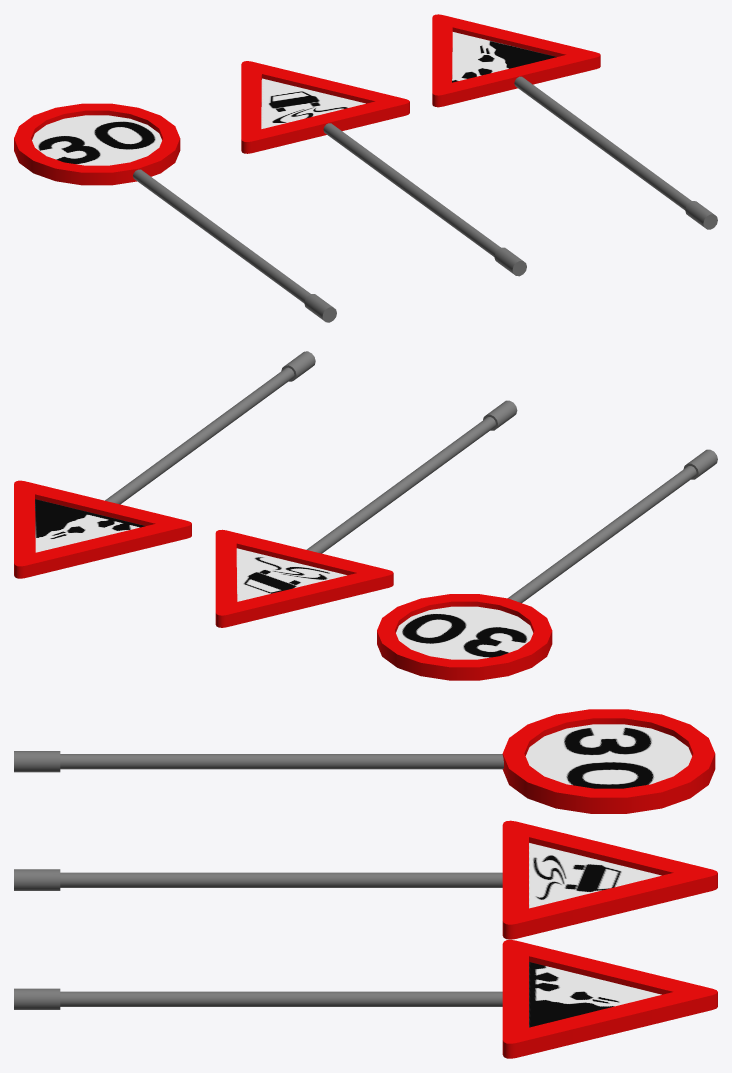
The model's file is RoadSignBoards.fbx.
3 views of the same model, one above another, from view 1: azimuth 30°, elevation 25°; view 2: azimuth 150°, elevation 25°; view 3: azimuth 270°, elevation 25° (orthographic). The views are drawn at different scales.
Parts seen in each view (by area): view 1: SpeedLimit30SignBoard, SlipperyRoadSignRoad, RockSlidingSignBoard; view 2: SpeedLimit30SignBoard, SlipperyRoadSignRoad, RockSlidingSignBoard; view 3: SpeedLimit30SignBoard, RockSlidingSignBoard, SlipperyRoadSignRoad.
Part boxes in pixels (x1=…): SpeedLimit30SignBoard: x1=14, y1=103, x2=336, y2=322; SlipperyRoadSignRoad: x1=241, y1=61, x2=526, y2=276; RockSlidingSignBoard: x1=432, y1=14, x2=717, y2=229; SpeedLimit30SignBoard: x1=377, y1=449, x2=717, y2=680; SlipperyRoadSignRoad: x1=215, y1=400, x2=517, y2=627; RockSlidingSignBoard: x1=14, y1=351, x2=315, y2=578; SpeedLimit30SignBoard: x1=14, y1=709, x2=715, y2=813; RockSlidingSignBoard: x1=14, y1=940, x2=717, y2=1058; SlipperyRoadSignRoad: x1=14, y1=820, x2=717, y2=939.
Size of the model in its own units: 706 by 19.27 by 629.
2 materials, 1 textured.
